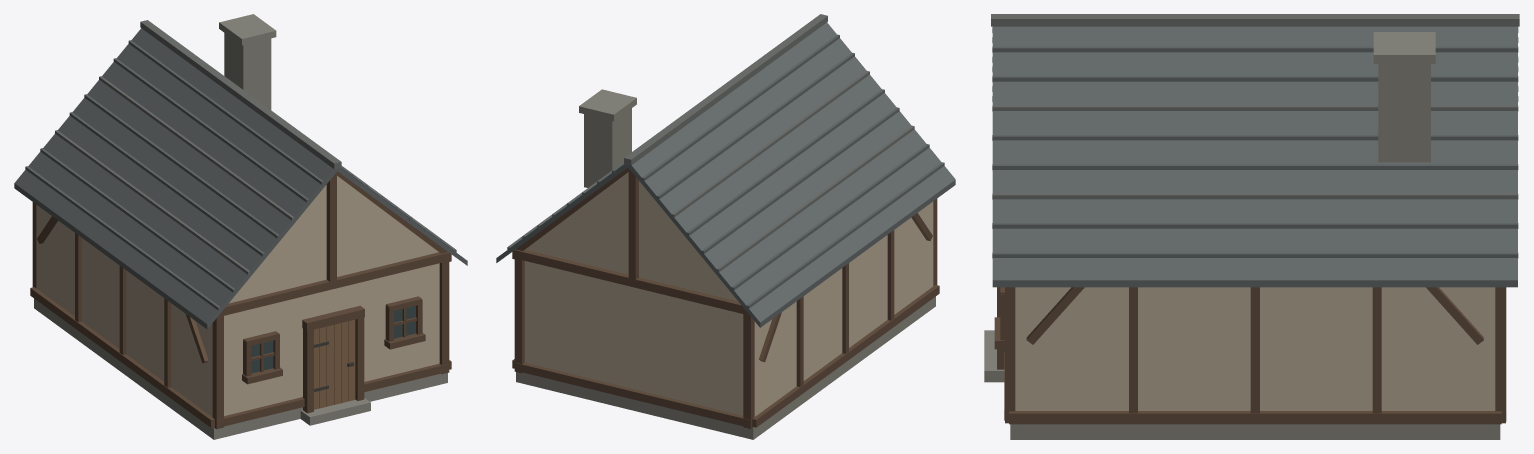
File: cottage.glb
3 views of the same model, side by side, from view 1: azimuth 30°, elevation 25°; view 2: azimuth 150°, elevation 25°; view 3: azimuth 270°, elevation 25° (orthographic). The views are drawn at different scales.
Parts seen in each view (by area): view 1: Slate Roof -1, Plaster Walls, Plaster Gables, Stone Plinth, Ridge Cap, Gable Tie -4.055, Chimney Stack, Side Sill -1, Corner Post -1 -4.025, Chimney Cap, Corner Post 1 -4.025, Slate Course -1 2 (+27 smaller); view 2: Slate Roof -1, Plaster Walls, Plaster Gables, Stone Plinth, Ridge Cap, Chimney Stack, Gable Tie 4.055, Rear Sill, Side Sill -1, Corner Post -1 4.025, Chimney Cap, Slate Course -1 1 (+14 smaller); view 3: Slate Roof 1, Plaster Walls, Stone Plinth, Ridge Cap, Side Sill 1, Chimney Stack, Slate Course 1 6, Slate Course 1 1, Slate Course 1 8, Slate Course 1 5, Slate Course 1 7, Slate Course 1 2 (+11 smaller).
Boxes of the visible parts, x1,y1,x2,y2 form: Slate Roof -1: (14,28,337,329); Plaster Walls: (36,205,439,416); Plaster Gables: (229,176,438,303); Stone Plinth: (34,298,447,439); Ridge Cap: (140,20,341,169); Gable Tie -4.055: (217,252,450,317); Chimney Stack: (224,33,271,109); Side Sill -1: (30,287,214,427); Corner Post -1 -4.025: (212,316,223,429); Chimney Cap: (219,14,276,45); Corner Post 1 -4.025: (439,261,449,374); Slate Course -1 2: (113,58,309,202); Slate Roof -1: (628,22,955,327); Plaster Walls: (524,201,933,416); Plaster Gables: (525,172,738,301); Stone Plinth: (516,296,935,439); Ridge Cap: (624,14,827,165); Chimney Stack: (584,108,631,187); Gable Tie 4.055: (514,249,749,315); Rear Sill: (514,362,750,427); Side Sill -1: (752,285,939,427); Corner Post -1 4.025: (743,314,754,428); Chimney Cap: (579,89,636,121); Slate Course -1 1: (641,34,839,181); Slate Roof 1: (992,26,1517,287); Plaster Walls: (1015,287,1495,410); Stone Plinth: (1010,424,1500,439); Ridge Cap: (991,14,1519,26); Side Sill 1: (1009,411,1501,424); Chimney Stack: (1378,64,1430,162); Slate Course 1 6: (992,193,1518,199); Slate Course 1 1: (992,46,1518,52); Slate Course 1 8: (992,252,1518,258); Slate Course 1 5: (992,164,1518,169); Slate Course 1 7: (992,223,1518,228); Slate Course 1 2: (992,76,1518,81).
Bounding box in the file's own units: 6.72 × 6.51 × 8.78.
